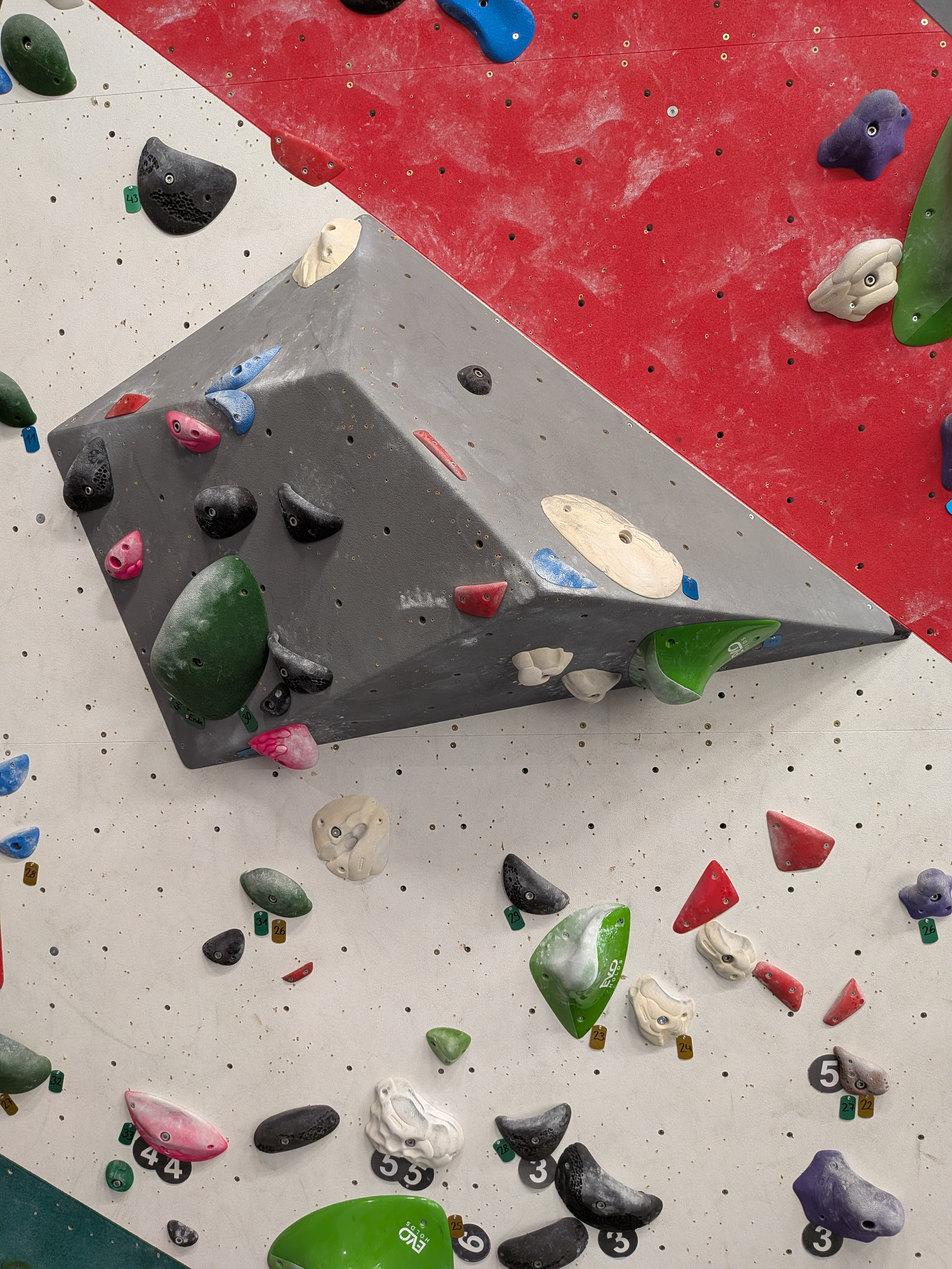hold: (151, 556, 266, 724), (543, 494, 684, 596), (267, 1196, 454, 1269), (531, 906, 633, 1038), (893, 117, 952, 345), (632, 620, 783, 702), (795, 1149, 905, 1241), (137, 138, 235, 235), (556, 1143, 663, 1228), (364, 1081, 463, 1170), (817, 89, 911, 181), (810, 239, 903, 321), (125, 1090, 227, 1162), (312, 796, 388, 881), (0, 14, 76, 96), (439, 0, 536, 63), (497, 1217, 588, 1269), (293, 218, 361, 287), (674, 860, 738, 932), (629, 975, 694, 1045), (270, 128, 345, 187), (767, 811, 836, 871), (496, 1105, 571, 1159), (502, 855, 570, 914), (253, 1105, 338, 1152), (268, 633, 333, 693), (277, 484, 343, 542), (63, 438, 113, 511), (240, 868, 312, 917), (207, 346, 280, 394), (195, 484, 256, 538), (697, 924, 759, 977), (251, 724, 318, 769), (0, 1034, 51, 1093), (899, 868, 952, 920), (834, 1046, 889, 1096), (414, 430, 466, 479), (533, 548, 596, 588), (753, 963, 803, 1012), (514, 648, 572, 686), (164, 411, 216, 452), (207, 390, 254, 434), (454, 582, 506, 618), (104, 531, 142, 580), (825, 979, 864, 1025), (565, 670, 622, 701), (426, 1028, 470, 1065), (0, 376, 31, 427), (203, 930, 244, 965), (0, 827, 39, 859), (0, 754, 29, 796), (104, 393, 145, 418), (261, 683, 291, 717), (459, 365, 492, 395), (940, 413, 952, 491), (104, 1162, 134, 1191), (343, 0, 399, 14), (166, 1222, 195, 1246), (283, 963, 313, 982), (0, 65, 12, 95)
volume: (45, 212, 917, 769)
